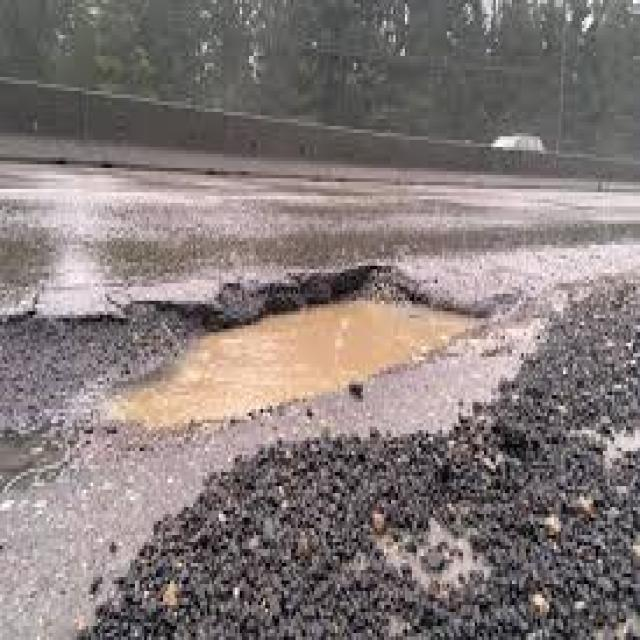Pothole: (0, 266, 475, 437)
